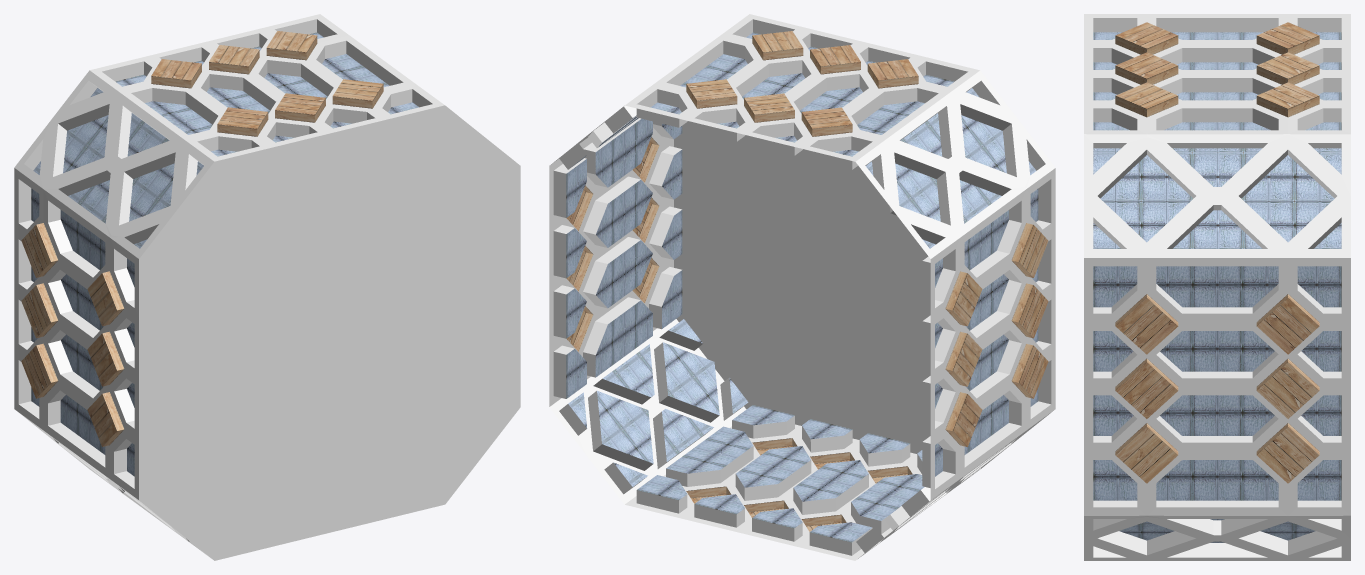
File: module 3.obj
3 renders of one model, left to right at view 1: azimuth 30°, elevation 25°; view 2: azimuth 150°, elevation 25°; view 3: azimuth 270°, elevation 25°, orthographic. The views are drawn at different scales.
Visible parts, largest first — view 1: module_3; view 2: module_3; view 3: module_3.
Part boxes in pixels (left/top/right/bottom): module_3: left=14, top=14, right=520, bottom=560; module_3: left=549, top=14, right=1055, bottom=560; module_3: left=1084, top=14, right=1350, bottom=560.
Size of the model in its own units: 0.1557 by 0.1557 by 0.0849.
